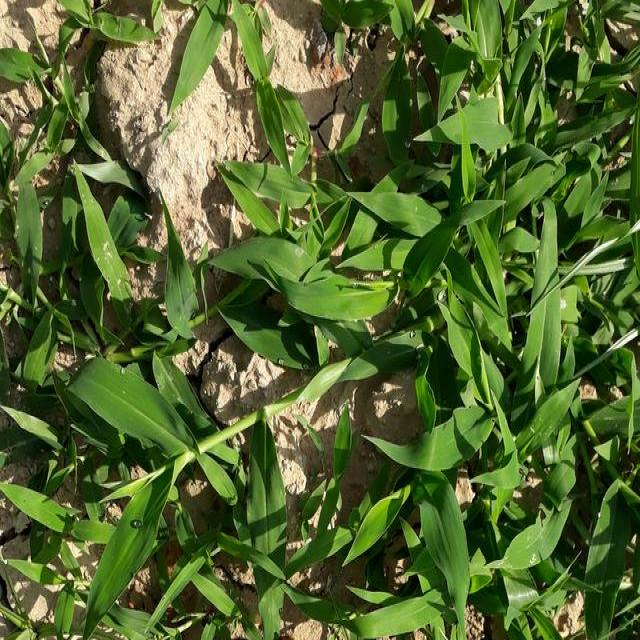weed: (390, 0, 640, 640), (22, 176, 170, 640), (210, 180, 387, 350), (174, 416, 288, 631), (176, 0, 268, 100)
